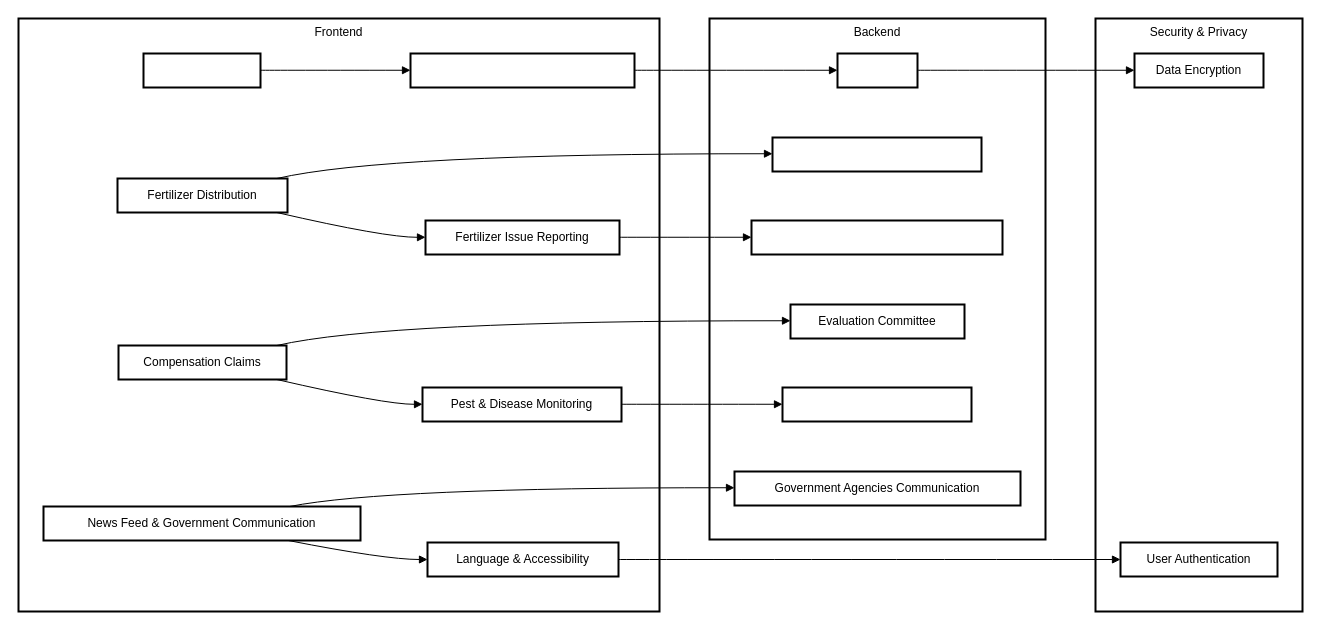
Image size: 1320x629. Some labels were removed from this diagram. Each missing label, with the centre of its shape:
"Crop Listing & Sales Platform" goes at (522,70).
"Database" goes at (877,70).
"Feedback Loop with Government" goes at (876,237).
"Partnerships with Suppliers" goes at (876,154).
"Pest & Disease Database" goes at (876,404).
"User Interface" goes at (201,70).
